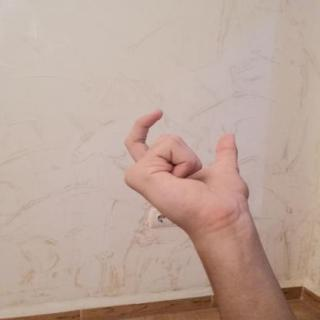NOON: (108, 102, 260, 240)
